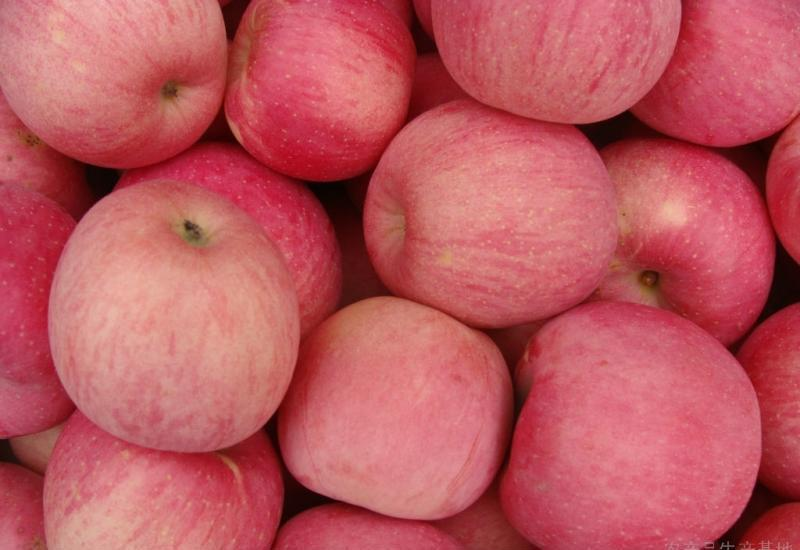apple: (42, 179, 301, 457), (514, 307, 779, 544), (363, 93, 615, 329), (278, 295, 515, 521), (4, 3, 231, 173), (611, 134, 788, 344), (222, 2, 417, 180), (34, 411, 285, 544), (426, 4, 685, 127), (626, 1, 800, 148), (731, 301, 799, 503)
